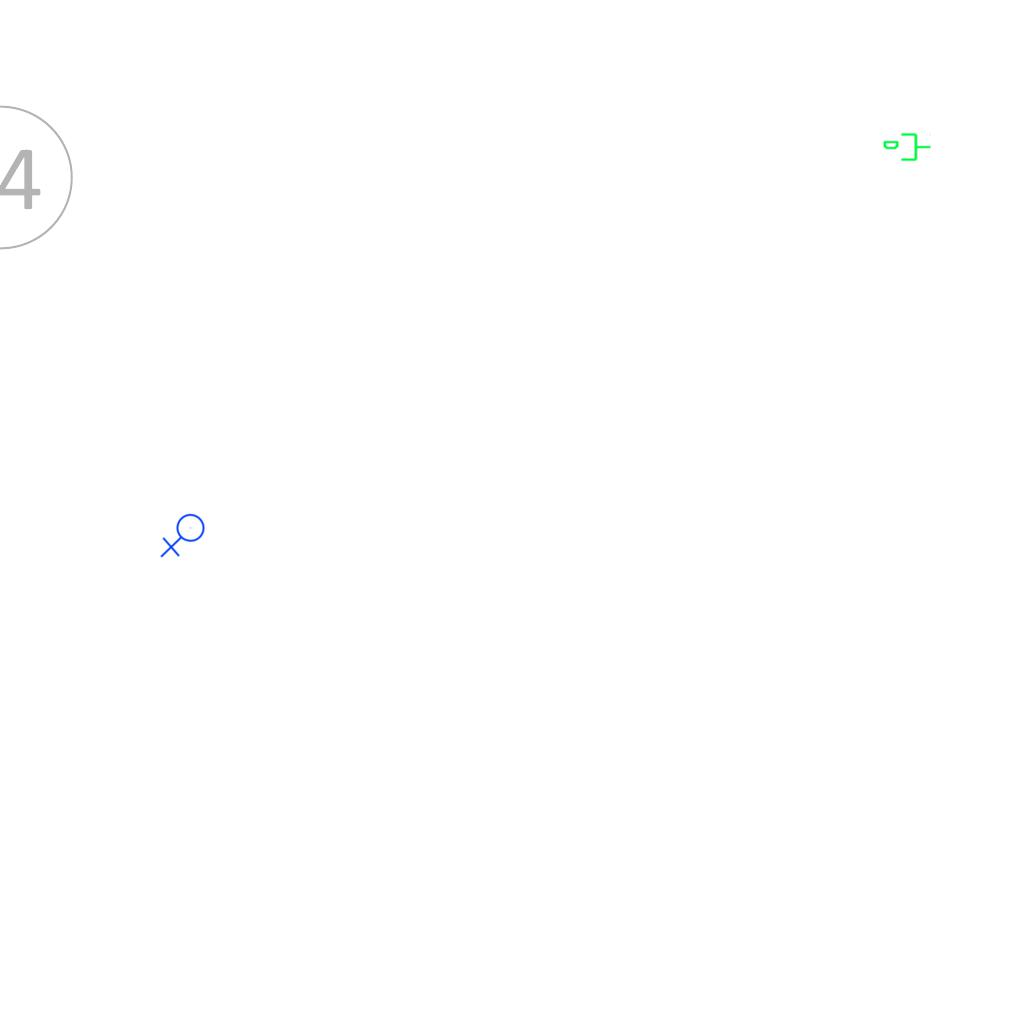Datenanschluss_einfach: (882, 131, 932, 165)
Elektroanschluss_allgemein_230V_Geraeteanschlussdose_230V: (160, 513, 209, 560)
